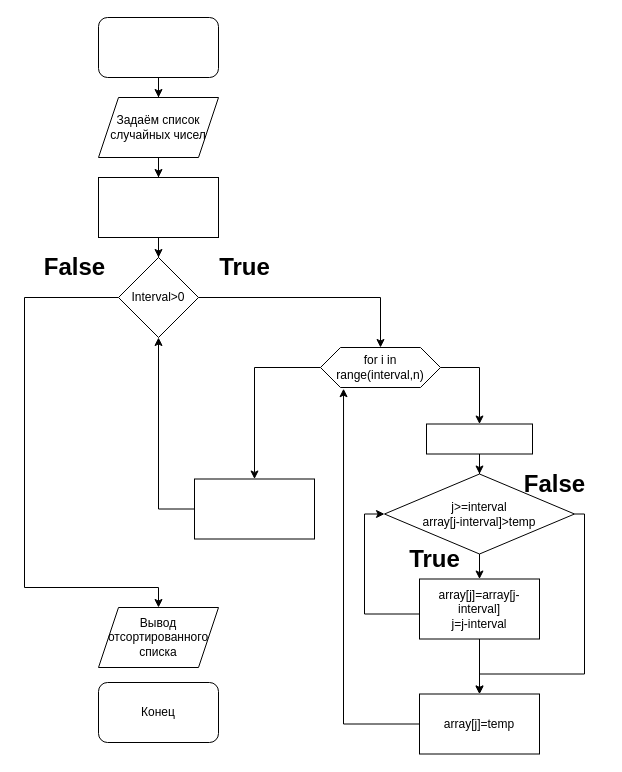
The diagram is 622 pixels wide and 772 high, and some of its shapes have lost their labels. The centre of each missing label's shape, as x and y in pixels:
"k=k-1 interval=2^k-1" goes at point 254,508.
"n = длина списка k= log2(n) interval=2^k-1" goes at point 158,207.
"temp = array[i] j=i" goes at point 479,438.
"Начало" goes at point 158,47.
